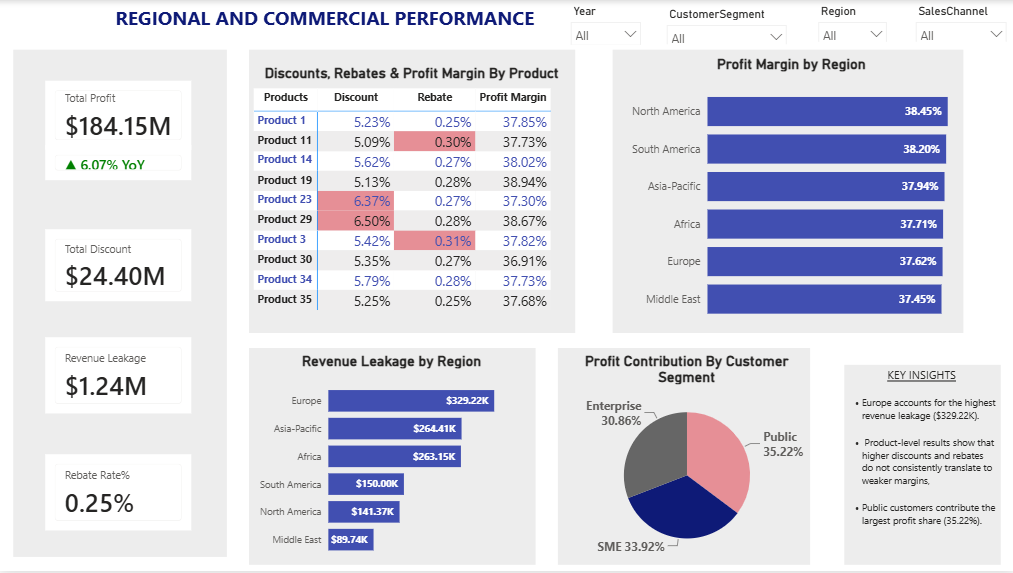

Layout of this report page (visuals, bound fields, positions):
{"tool":"powerbi","page":{"name":"Regional & Commercial Performance","canvas":[1280,720],"ordinal":2},"visuals":[{"type":"cardVisual","fields":{"Data":["Dim_Channel.Total Discount Amount"]},"box":[52.5,283.1,194.1,101.8],"z":0},{"type":"cardVisual","fields":{"Data":["Dim_Channel.Revenue Leakage"]},"box":[52.5,419.9,194.1,106.6],"z":1000},{"type":"barChart","title":"Profit Margin by Region","fields":{"Category":["Dim_Region.Region"],"Y":["_Measures.Profit Margin"]},"box":[784.2,70,427.9,349.9],"z":2000},{"type":"clusteredBarChart","title":"Revenue Leakage by Region","fields":{"Category":["Dim_Region.Region"],"Y":["Dim_Channel.Revenue Leakage"]},"box":[316.5,443.8,357.9,268.8],"z":3000},{"type":"pieChart","title":"Profit Contribution  By Customer Segment","fields":{"Category":["Dim_Customer.CustomerSegment"],"Y":["_Measures.Customer Segment Profit Contribution %"]},"box":[711,443.8,311.8,268.8],"z":4000},{"type":"pivotTable","title":"Discounts, Rebates &  Profit Margin By Product","fields":{"Rows":["Dim_Product.ProductName"],"Values":["Dim_Channel.Discount Rate","Dim_Channel.Rebate Rate%","_Measures.Profit Margin"]},"box":[316.5,81.1,408.8,351.5],"z":5000},{"type":"cardVisual","fields":{"Data":["Dim_Channel.Rebate Rate%"]},"box":[52.5,566.3,194.1,106.6],"z":6000},{"type":"slicer","fields":{"Values":["Dim_Date.Year"]},"box":[711,0,107.7,56.7],"z":7000},{"type":"slicer","fields":{"Values":["Dim_Customer.CustomerSegment"]},"box":[831.9,3.2,170.5,51.7],"z":8000},{"type":"slicer","fields":{"Values":["Dim_Region.Region"]},"box":[1022.8,0,105.8,52.9],"z":9000},{"type":"slicer","fields":{"Values":["Dim_Channel.SalesChannel"]},"box":[1145.2,0,134.2,52.9],"z":10000},{"type":"cardVisual","fields":{"Data":["Dim_Channel.Total Profit"]},"box":[52.5,95.4,194.1,97],"z":11000},{"type":"cardVisual","fields":{"Data":["_Measures.Profit YoY Label"]},"box":[52.5,178.1,194.1,54.1],"z":12000},{"type":"textbox","box":[132,0,556.7,57.3],"z":13000},{"type":"textbox","box":[1064.1,456.5,197.2,256.1],"z":14000}]}

Visuals, with their boxes in screenshot pixels (x1, y1, x2, y2), scaled from the page's 1280x720 canvas onto the 1013x573 screenshot:
cardVisual - Dim_Channel.Total Discount Amount: 42, 225, 195, 306
cardVisual - Dim_Channel.Revenue Leakage: 42, 334, 195, 419
"Profit Margin by Region" barChart: 621, 56, 959, 334
"Revenue Leakage by Region" clusteredBarChart: 250, 353, 534, 567
"Profit Contribution  By Customer Segment" pieChart: 563, 353, 809, 567
"Discounts, Rebates &  Profit Margin By Product" pivotTable: 250, 65, 574, 344
cardVisual - Dim_Channel.Rebate Rate%: 42, 451, 195, 536
slicer - Dim_Date.Year: 563, 0, 648, 45
slicer - Dim_Customer.CustomerSegment: 658, 3, 793, 44
slicer - Dim_Region.Region: 809, 0, 893, 42
slicer - Dim_Channel.SalesChannel: 906, 0, 1012, 42
cardVisual - Dim_Channel.Total Profit: 42, 76, 195, 153
cardVisual - _Measures.Profit YoY Label: 42, 142, 195, 185
textbox: 104, 0, 545, 46
textbox: 842, 363, 998, 567
